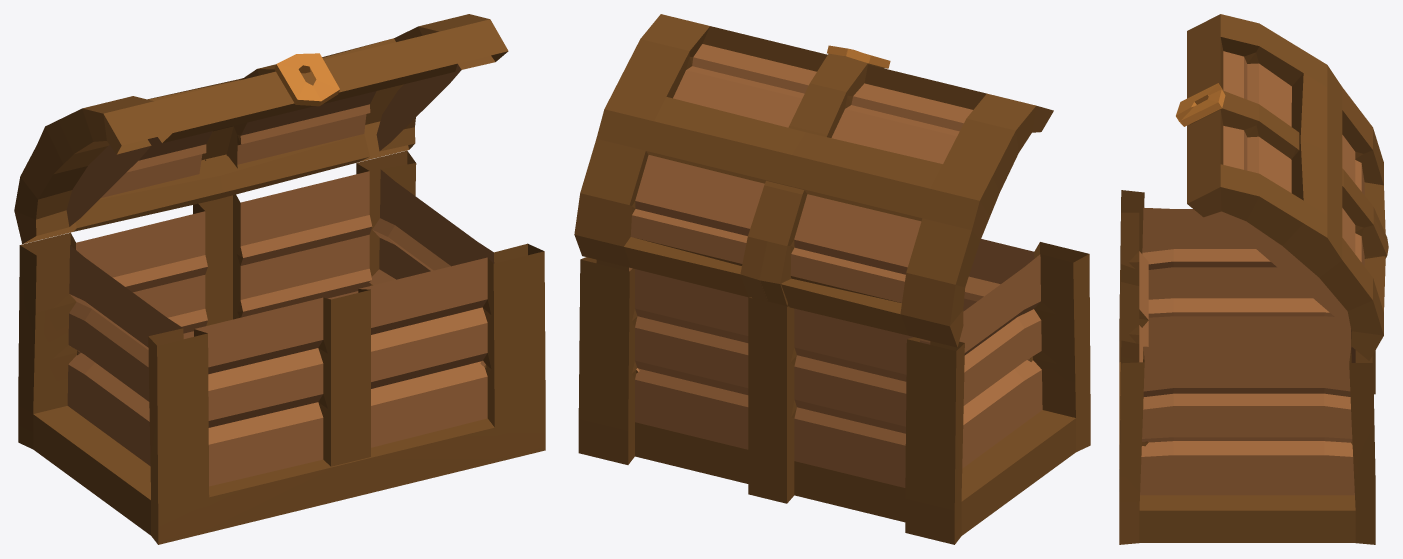
Rendered from openchest.fbx.
The picture shows the model from 3 angles, left to right: view 1: azimuth 30°, elevation 25°; view 2: azimuth 150°, elevation 25°; view 3: azimuth 270°, elevation 25°; orthographic projection. The views are drawn at different scales.
Visible parts, largest first — view 1: chest cover.002; view 2: chest cover.002; view 3: chest cover.002.
Boxes of the visible parts, box(x1,y1,x2,y2) form: chest cover.002: box(14, 14, 545, 544); chest cover.002: box(574, 14, 1090, 544); chest cover.002: box(1119, 14, 1388, 544).
Size of the model in its own units: 119 by 119 by 78.36.
